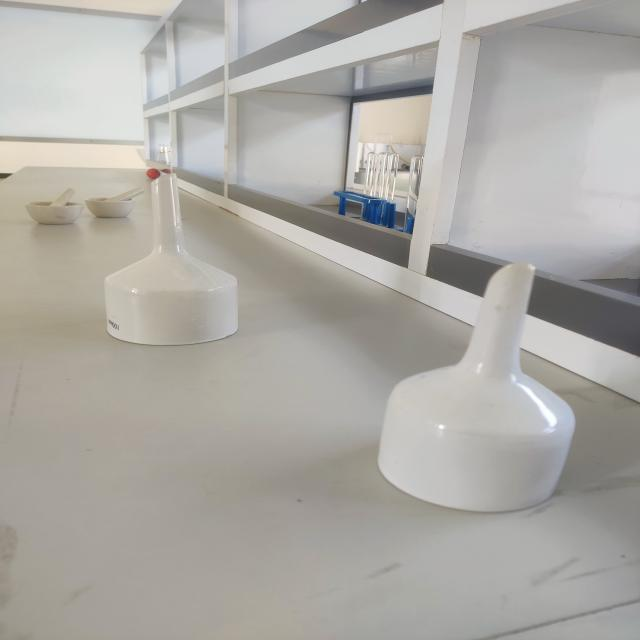Buchner_Funnel: (357, 236, 596, 537), (77, 141, 268, 367)
